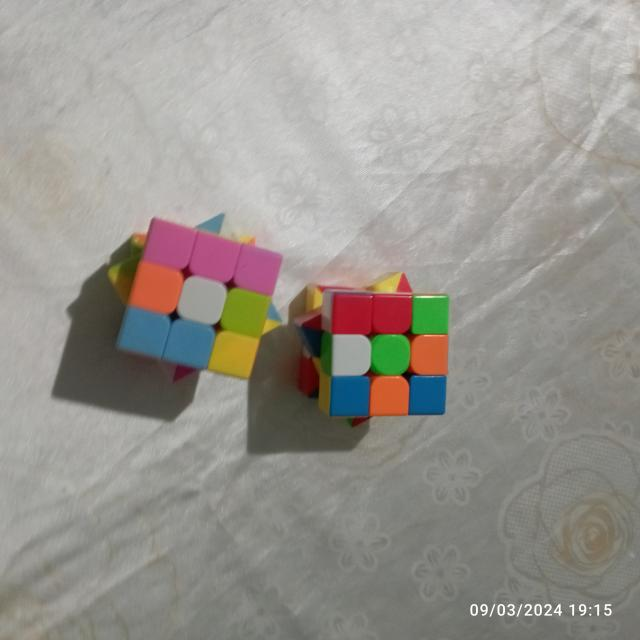Rub: (100, 208, 286, 391), (281, 266, 458, 433)
